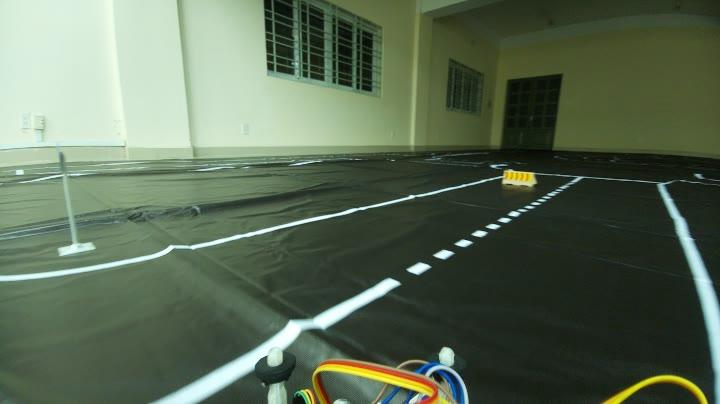roadblock: (498, 162, 538, 194)
